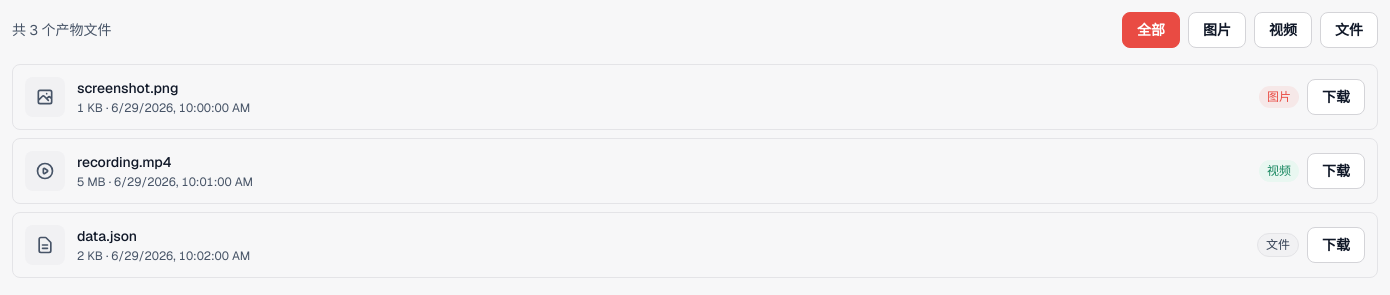
ArtifactPreview › filters artifacts by type
Click the button "图片".
click(1217, 30)  # box [1188,12,1246,48]
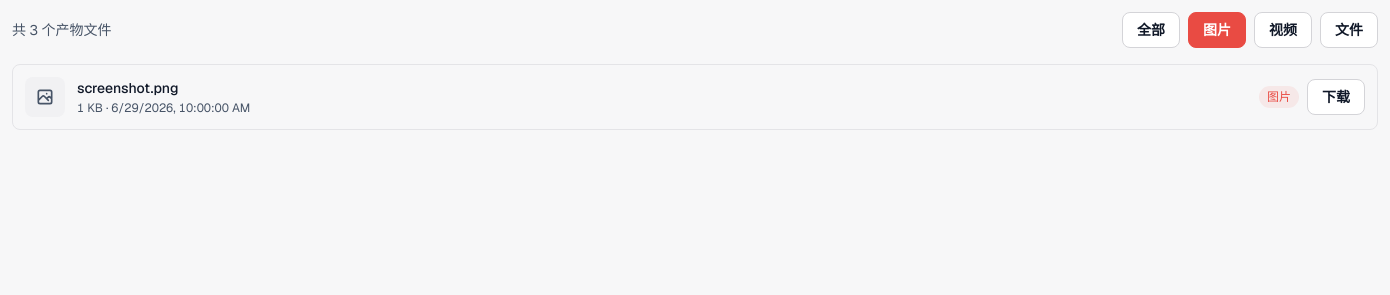
Check: the text "screenshot.png" is shown, box [77,79,178,97]
Check: the text "recording.mp4" is gone
Check: the text "data.json" is gone
Click the button "全部".
click(1151, 30)  # box [1122,12,1180,48]
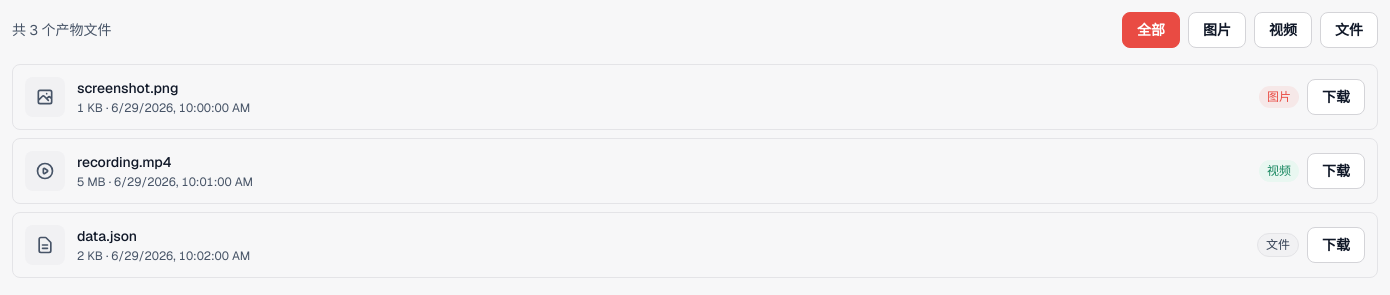
Check: the text "screenshot.png" is shown, box [77,79,178,97]
Check: the text "recording.mp4" is shown, box [77,153,171,171]
Check: the text "data.json" is shown, box [77,227,137,245]
